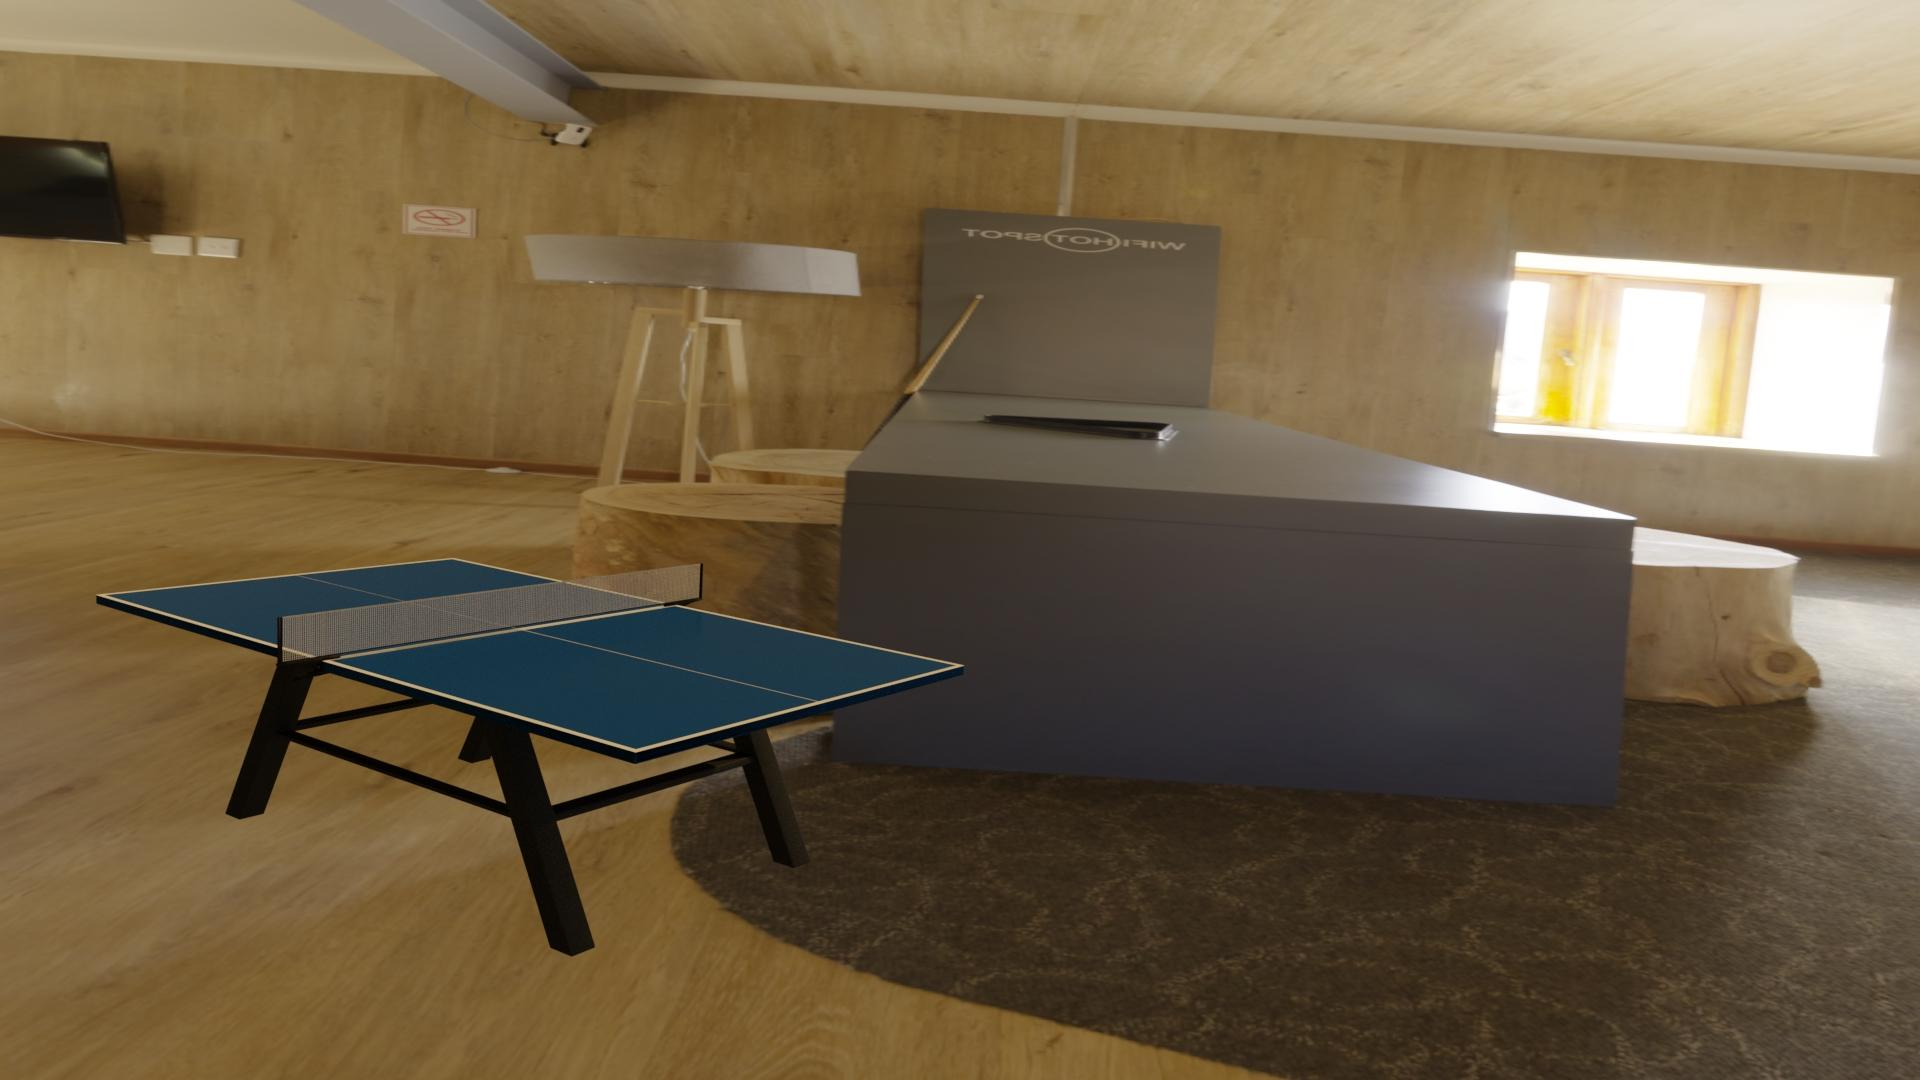table: (104, 559, 956, 749)
